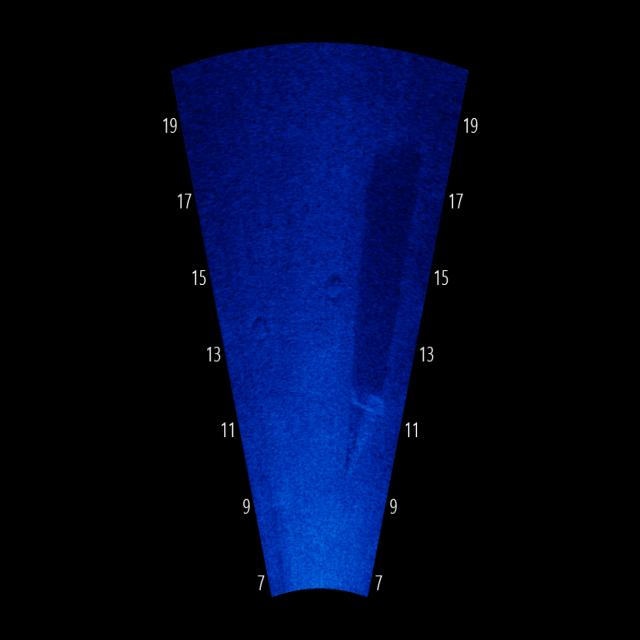triangle: (332, 360, 390, 481)
